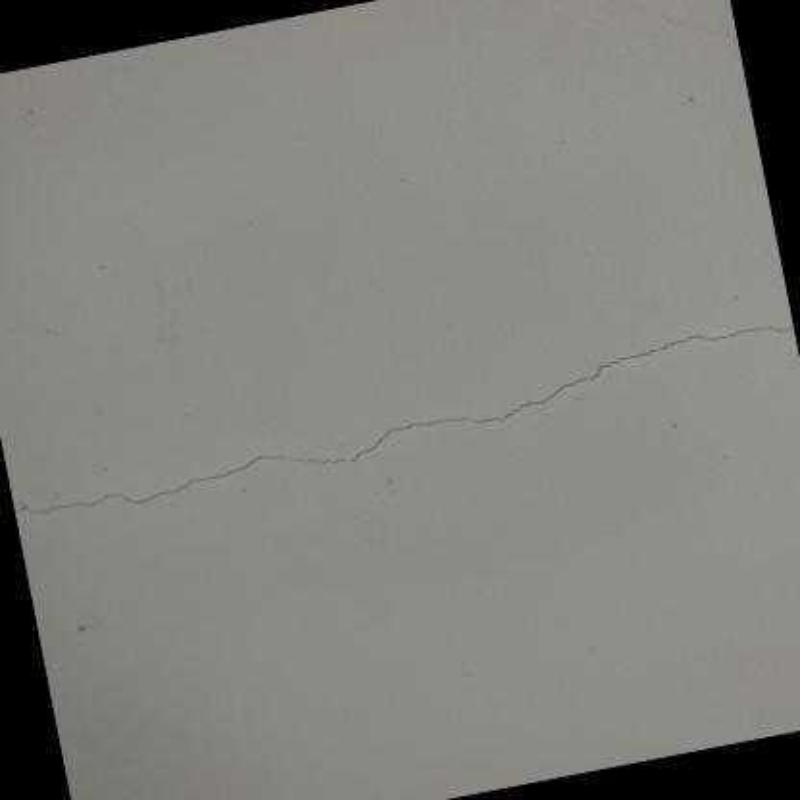pothole: (14, 328, 793, 517)
